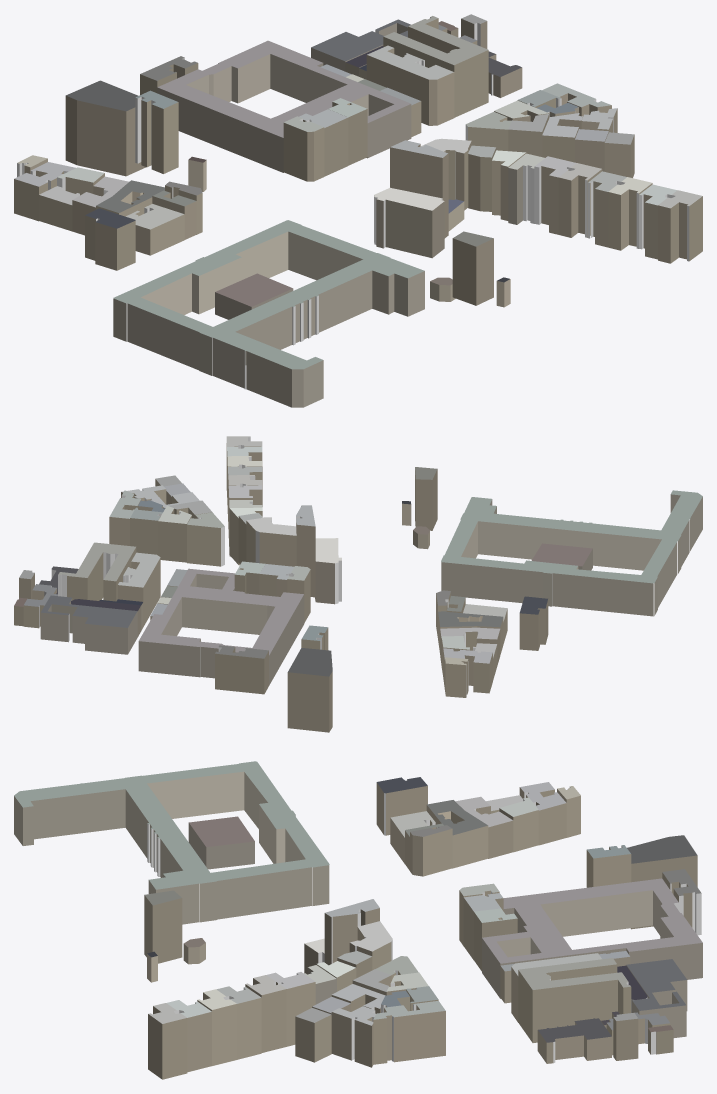
3 views of the same model, one above another, from view 1: azimuth 30°, elevation 25°; view 2: azimuth 150°, elevation 25°; view 3: azimuth 270°, elevation 25° (orthographic). The views are drawn at different scales.
Parts seen in each view (by area): view 1: tuile; view 2: tuile; view 3: tuile.
Boxes of the visible parts, <box> form: tuile: <box>14,14,702,407</box>; tuile: <box>14,436,702,732</box>; tuile: <box>14,761,702,1079</box>.
Bounding box in the file's own units: 293 × 43.82 × 309.
